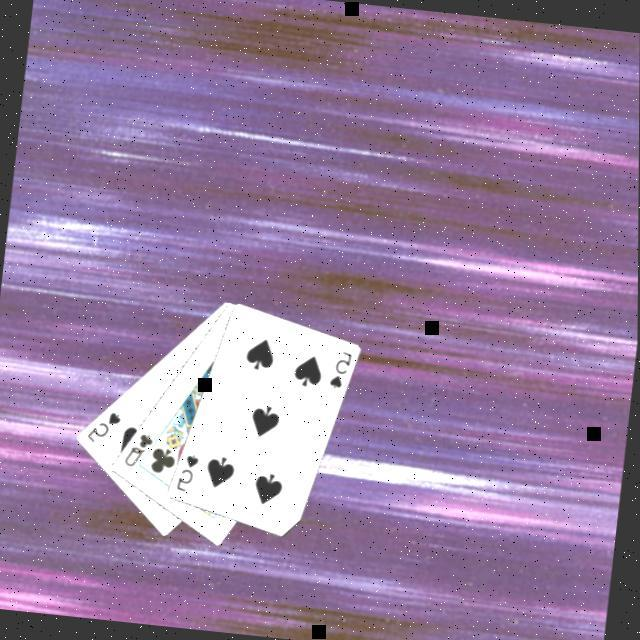5S: (84, 404, 126, 446), (174, 448, 204, 494), (326, 345, 356, 391)
QC: (121, 426, 158, 470)
